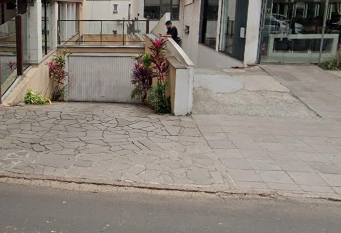vag33: (2, 131, 207, 211)
vag34: (214, 131, 337, 211)
